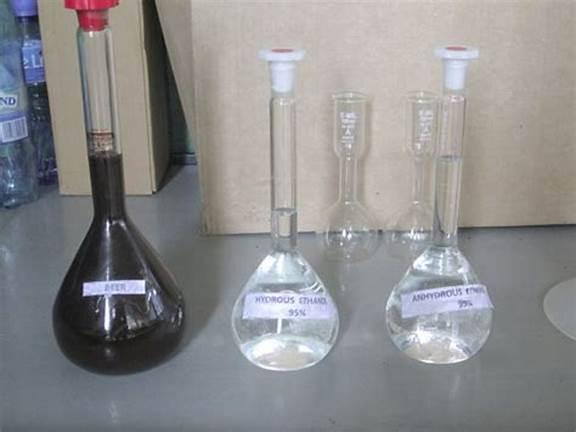Volumetric flask: (48, 14, 196, 376), (227, 33, 338, 383), (390, 11, 498, 365)
